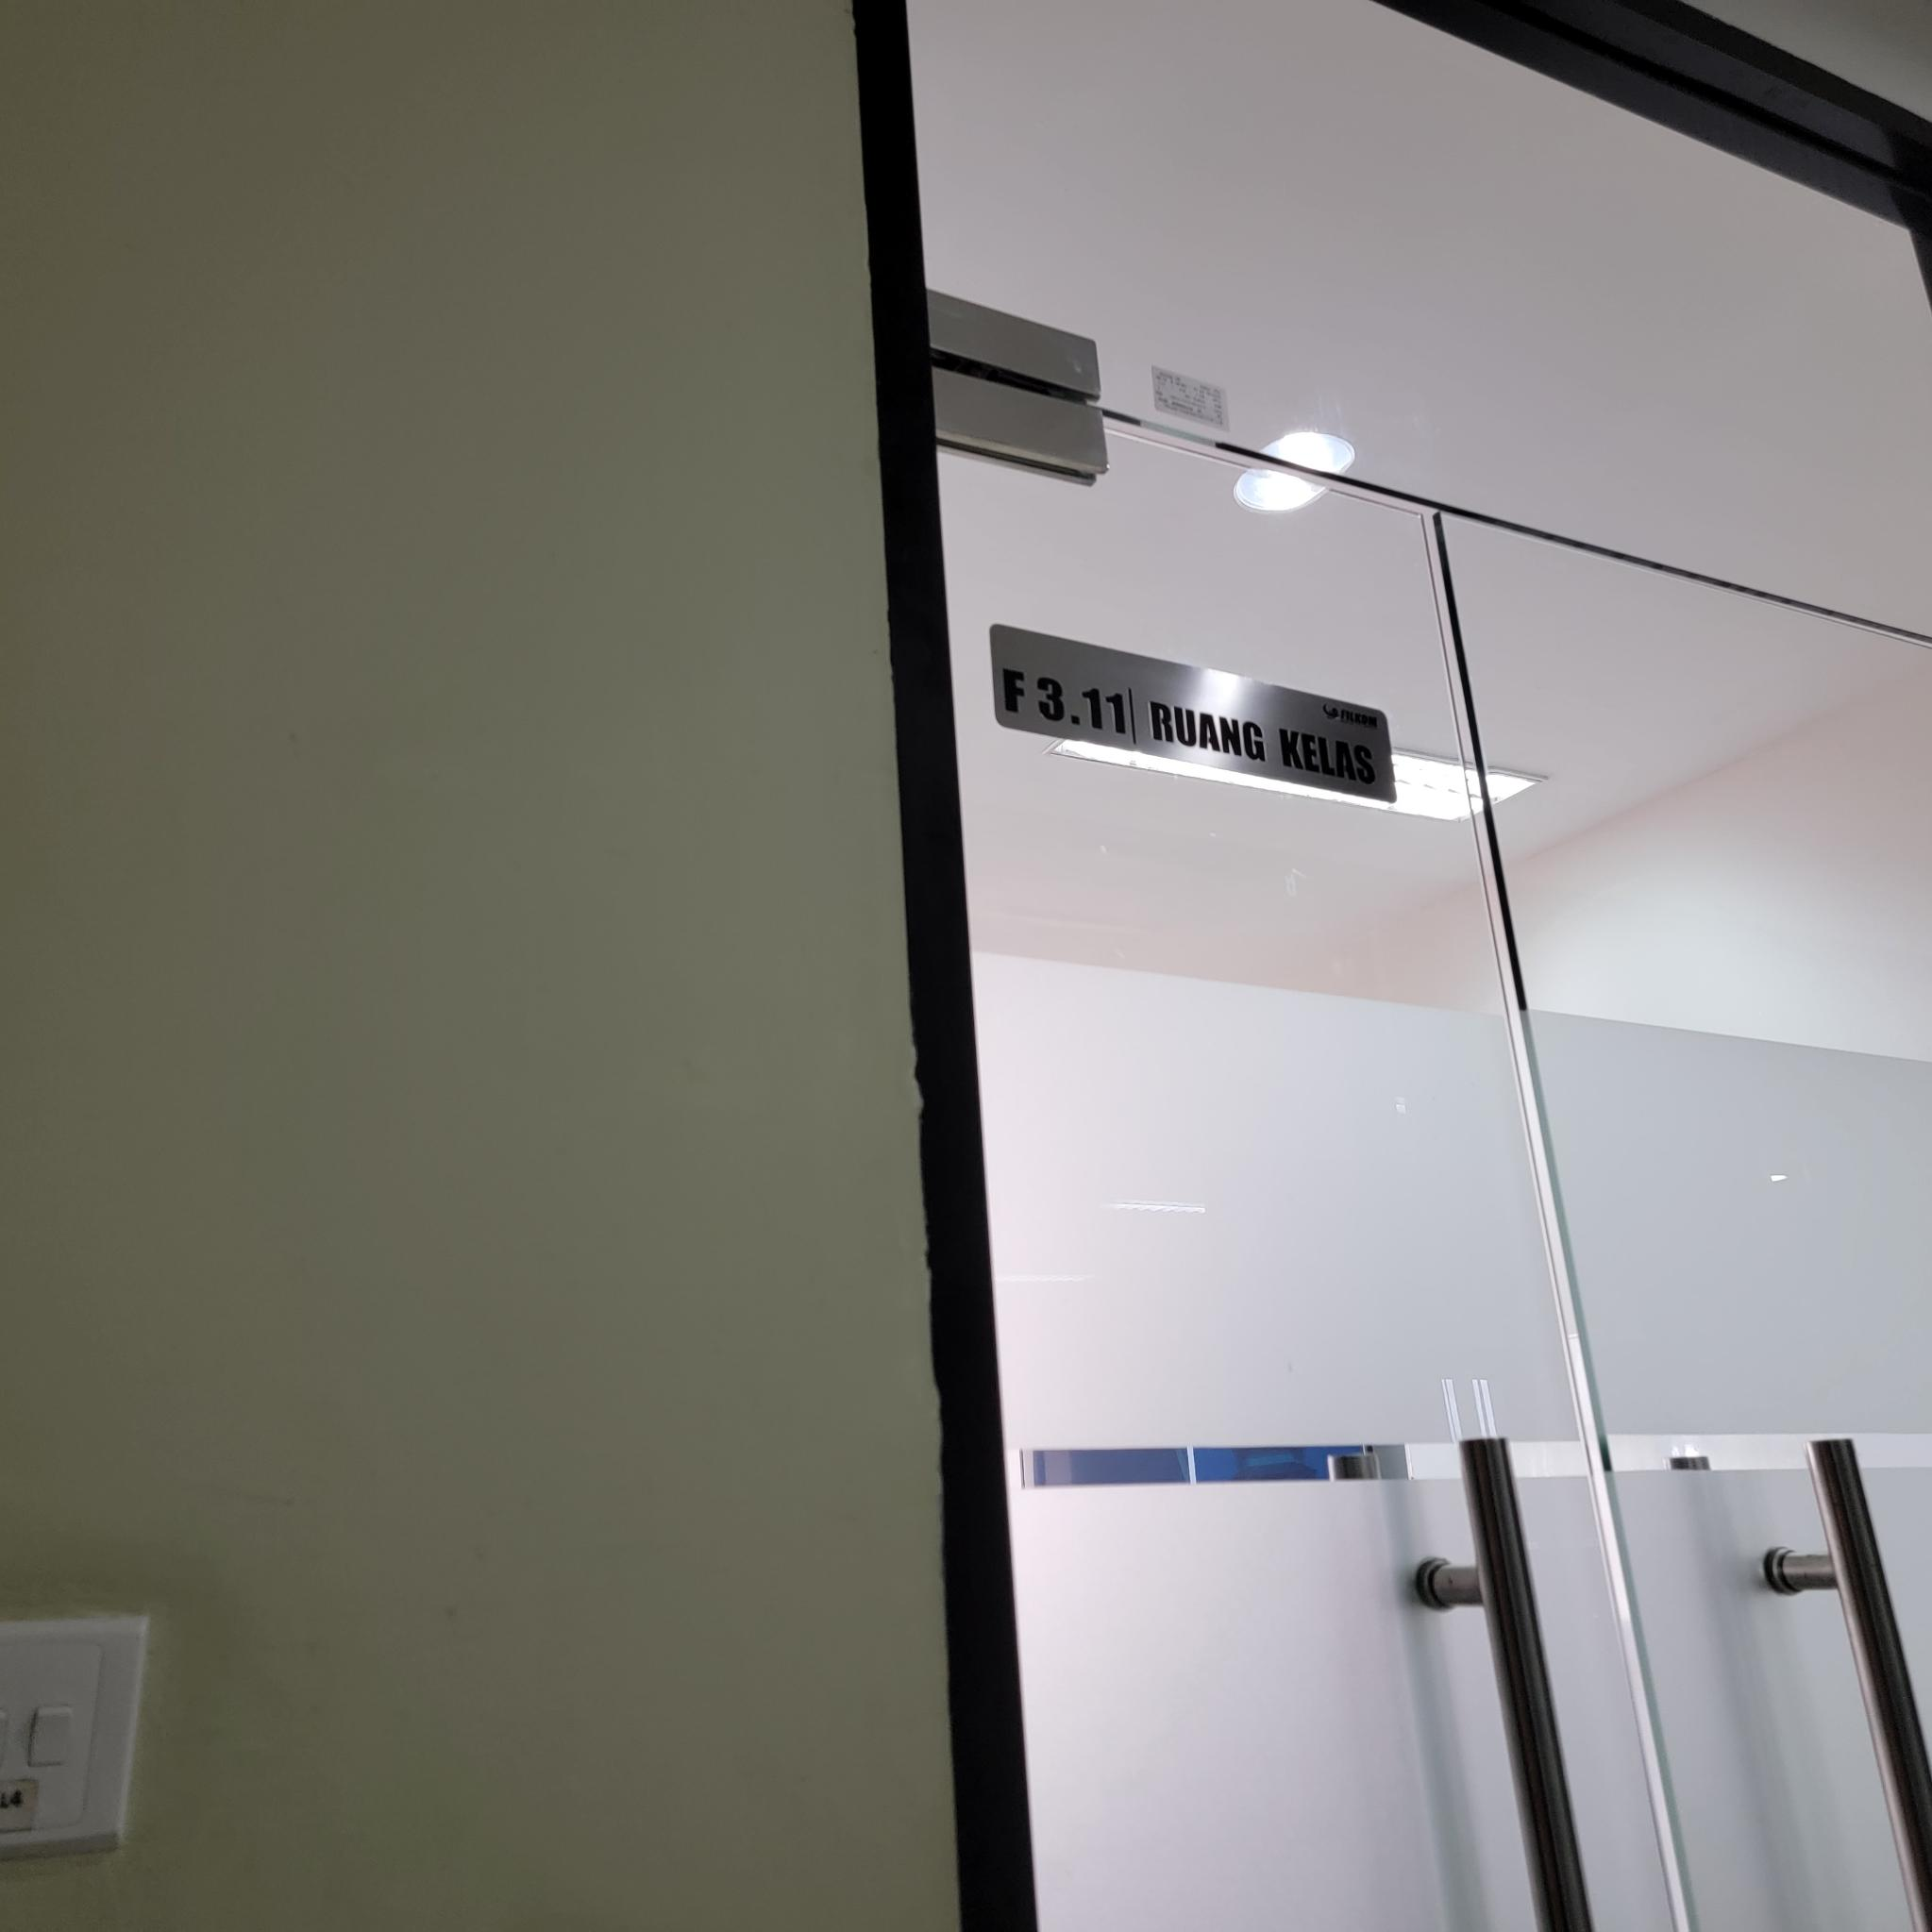plate: (989, 625, 1396, 805)
